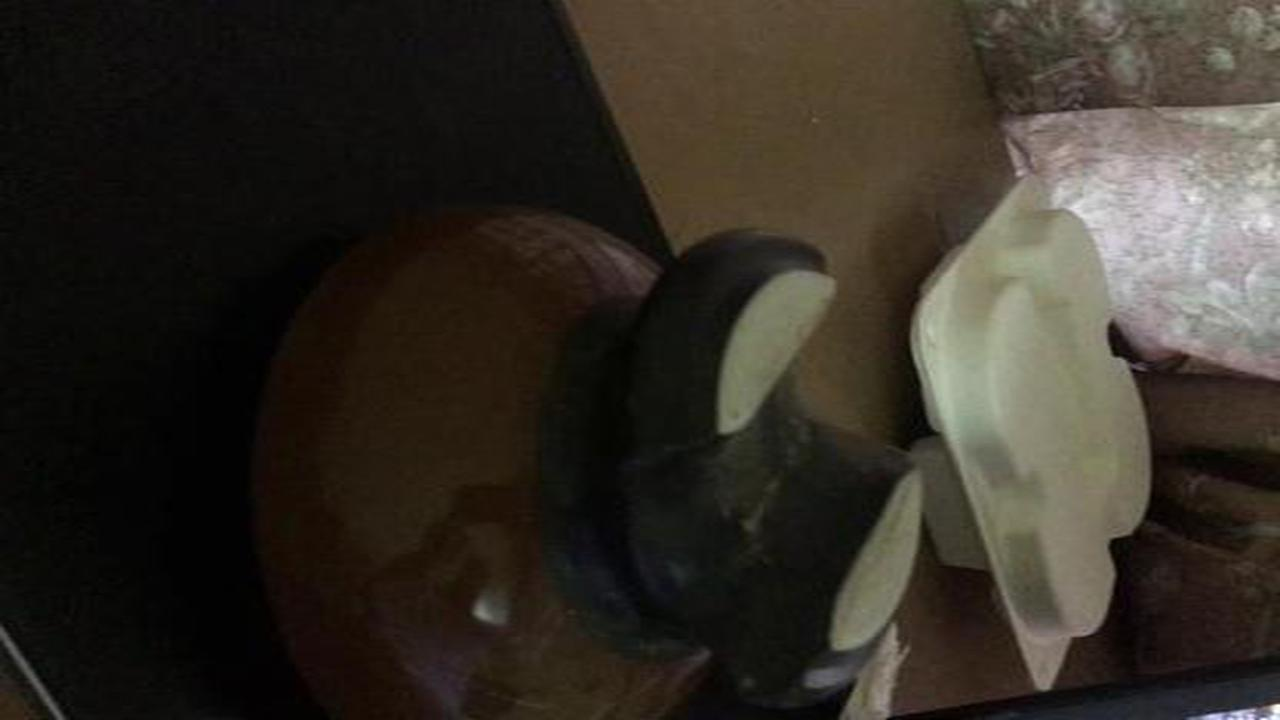insulator_pin: (219, 189, 954, 720)
